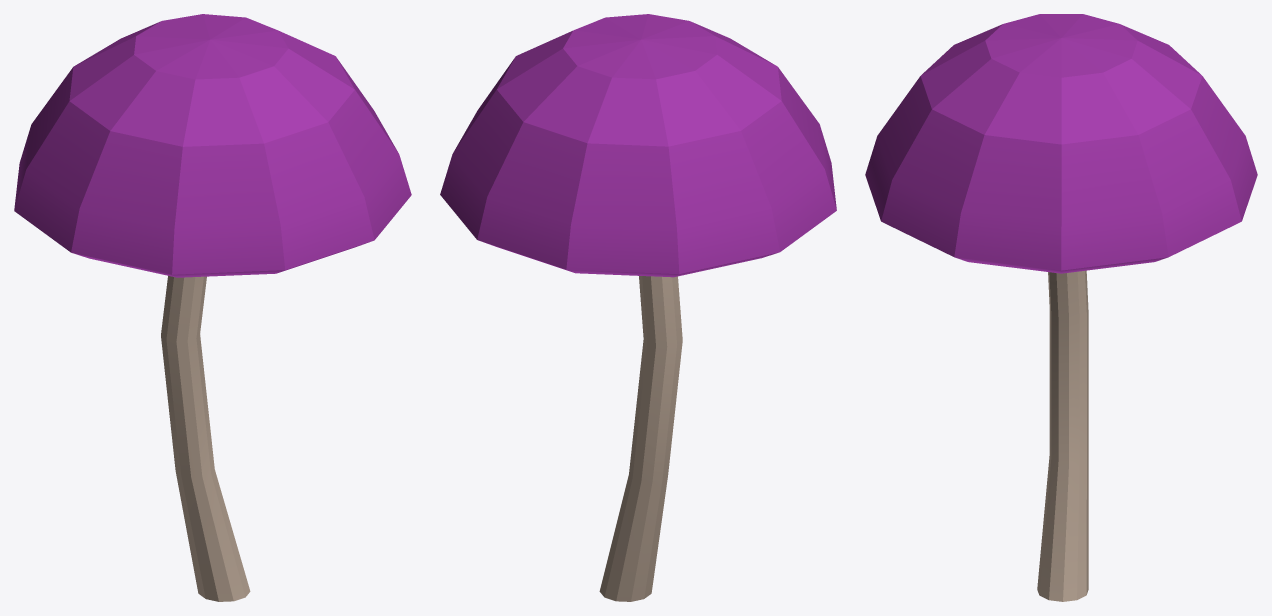
The model's file is Normal_Mushroom_M.fbx.
3 renders of one model, left to right at view 1: azimuth 30°, elevation 25°; view 2: azimuth 150°, elevation 25°; view 3: azimuth 270°, elevation 25°, orthographic.
Parts seen in each view (by area): view 1: pasted__NormalMushroom_M; view 2: pasted__NormalMushroom_M; view 3: pasted__NormalMushroom_M.
Boxes of the visible parts, <box> form: pasted__NormalMushroom_M: <box>14,14,411,601</box>; pasted__NormalMushroom_M: <box>440,14,836,601</box>; pasted__NormalMushroom_M: <box>865,14,1257,601</box>.
Size of the model in its own units: 1.32 by 2.05 by 1.33.
